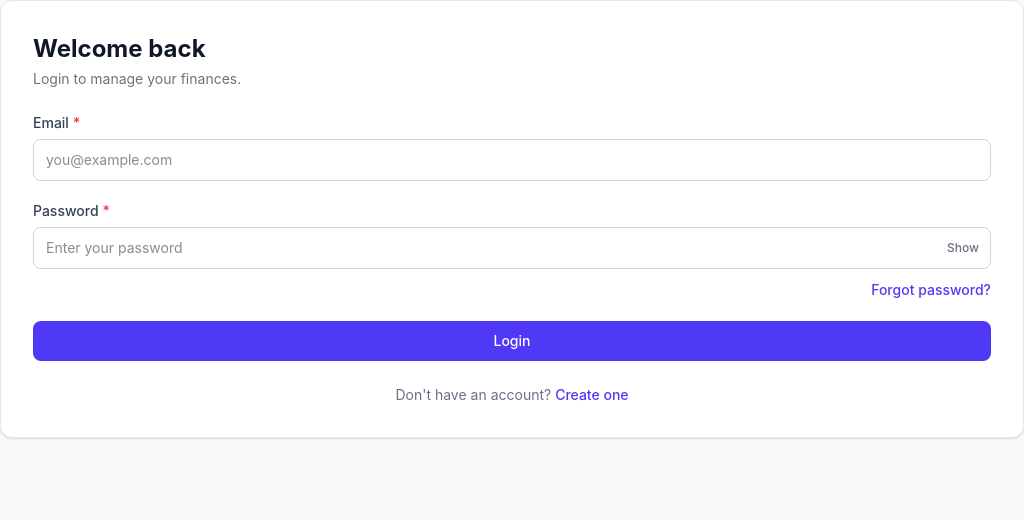
Test: Login › shows the backend's message for a wrong password
Type "ada@example.com" into the field labelled "Email*" at (512, 160), box [33,139,991,181]
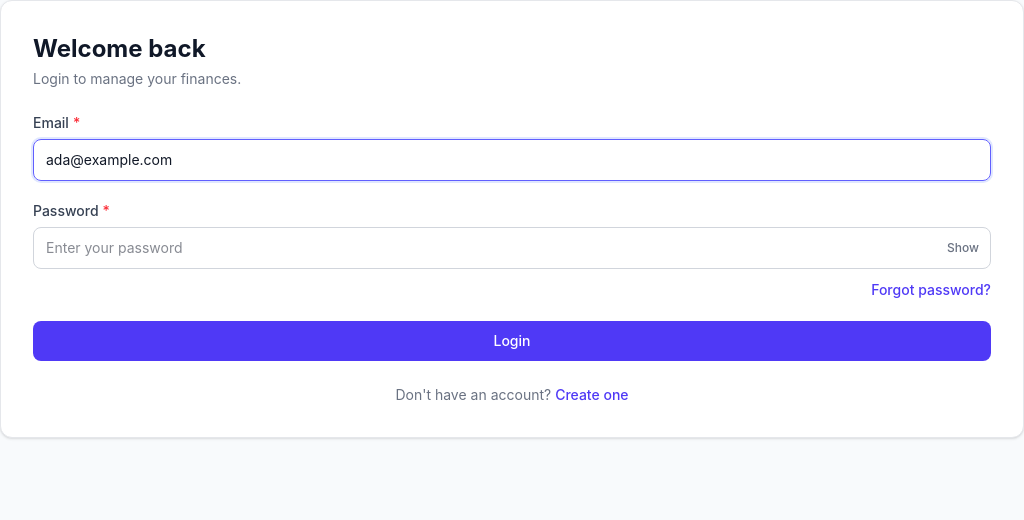
Type "wrong password" into the password field labelled "Password*" at (512, 248), box [33,227,991,269]
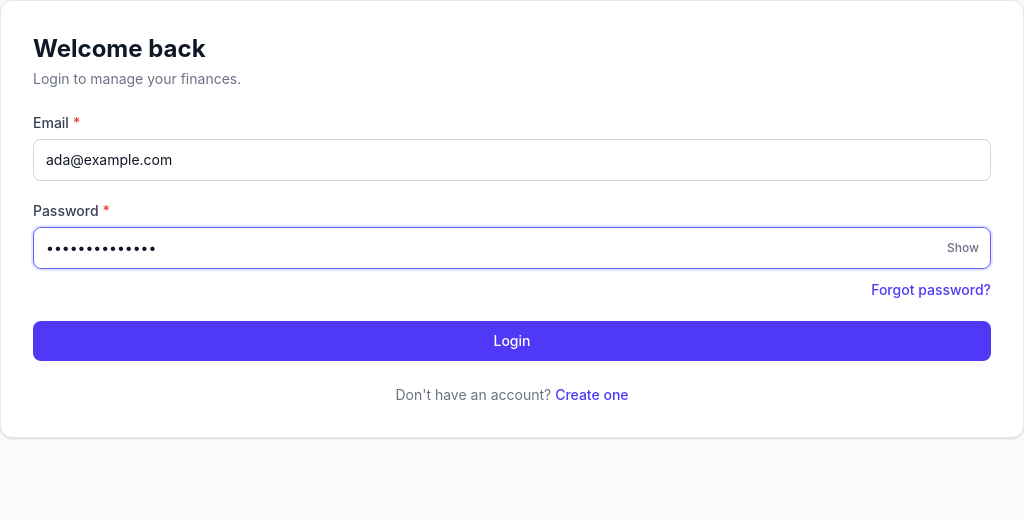
Click the button "Login" at (512, 341), box [33,321,991,361]
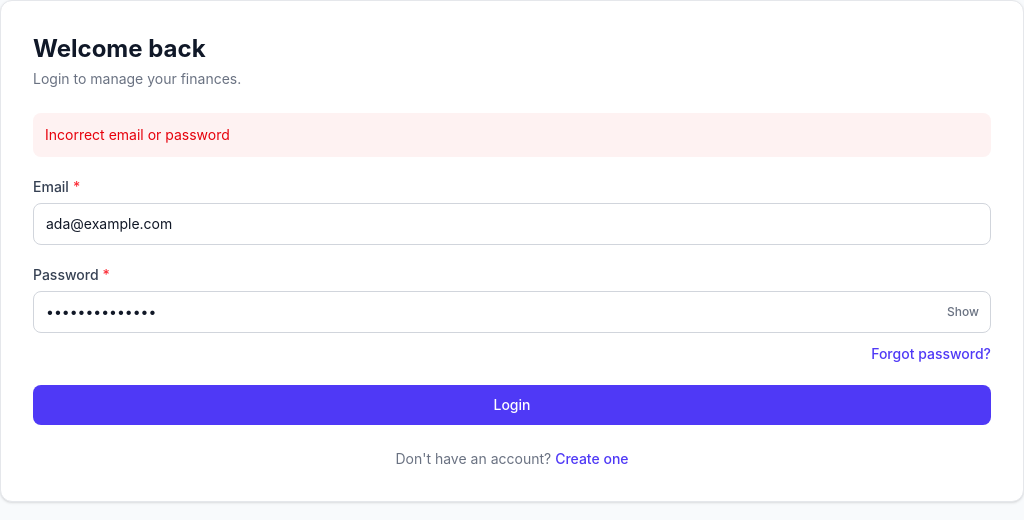
Expected: the text "Incorrect email or password" is shown, [33,113,991,157]
